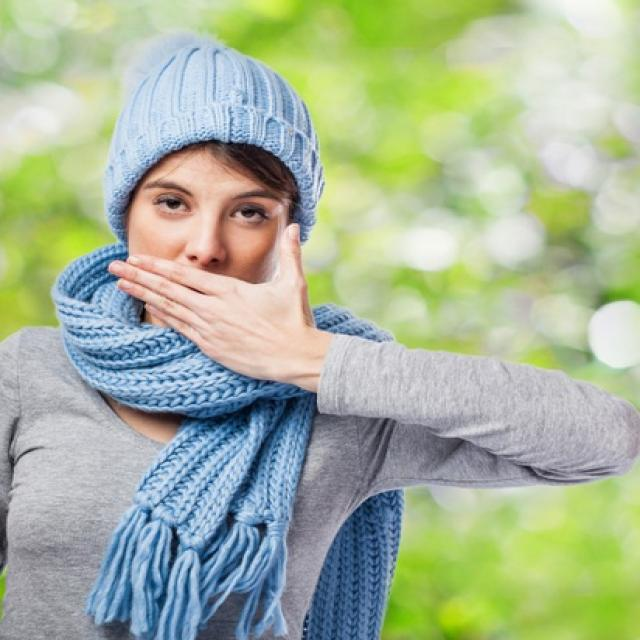hat: (104, 42, 323, 243)
